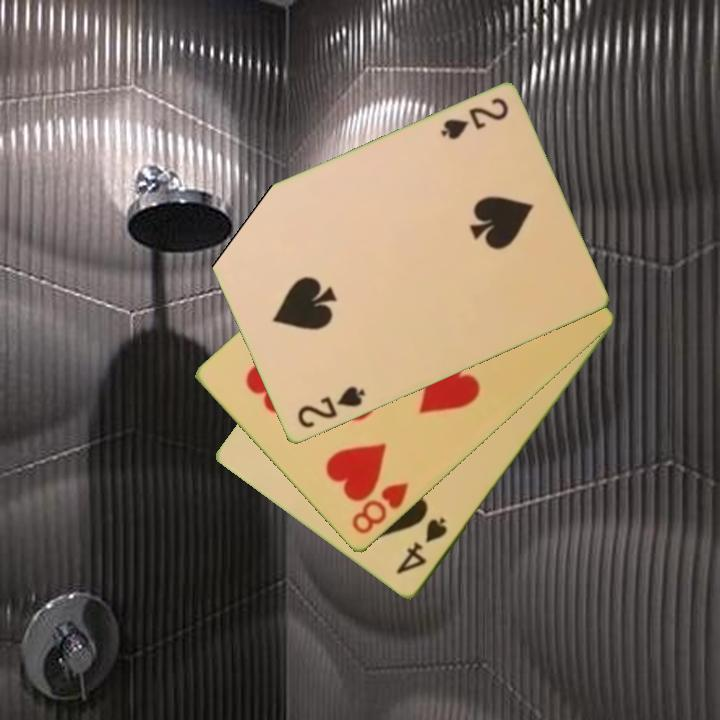2s: (437, 94, 512, 144), (293, 383, 368, 432)
4s: (393, 514, 451, 578)
8h: (348, 479, 411, 538)
